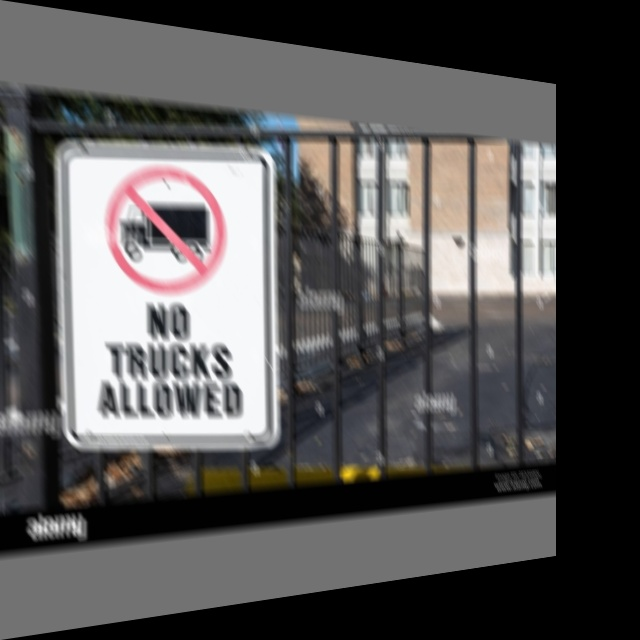Truck_Prohibited: (99, 152, 230, 300)
